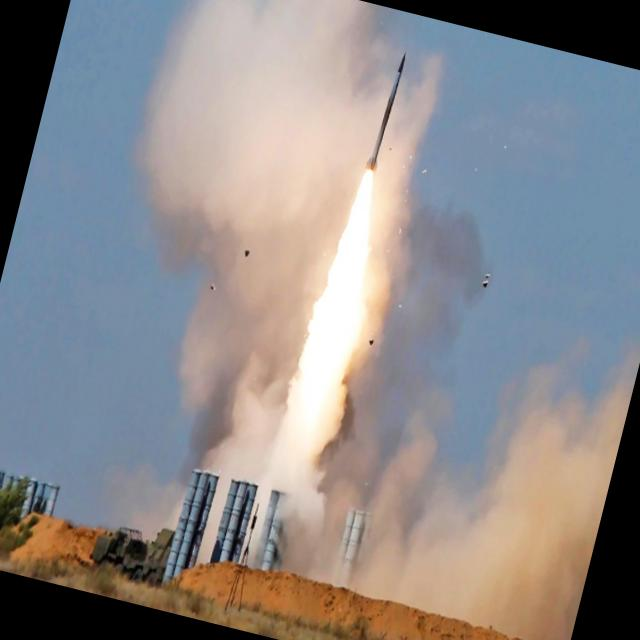rocket: (341, 48, 412, 260)
